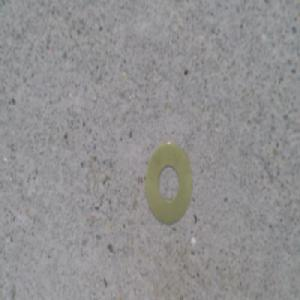Washer: (145, 141, 194, 230)
